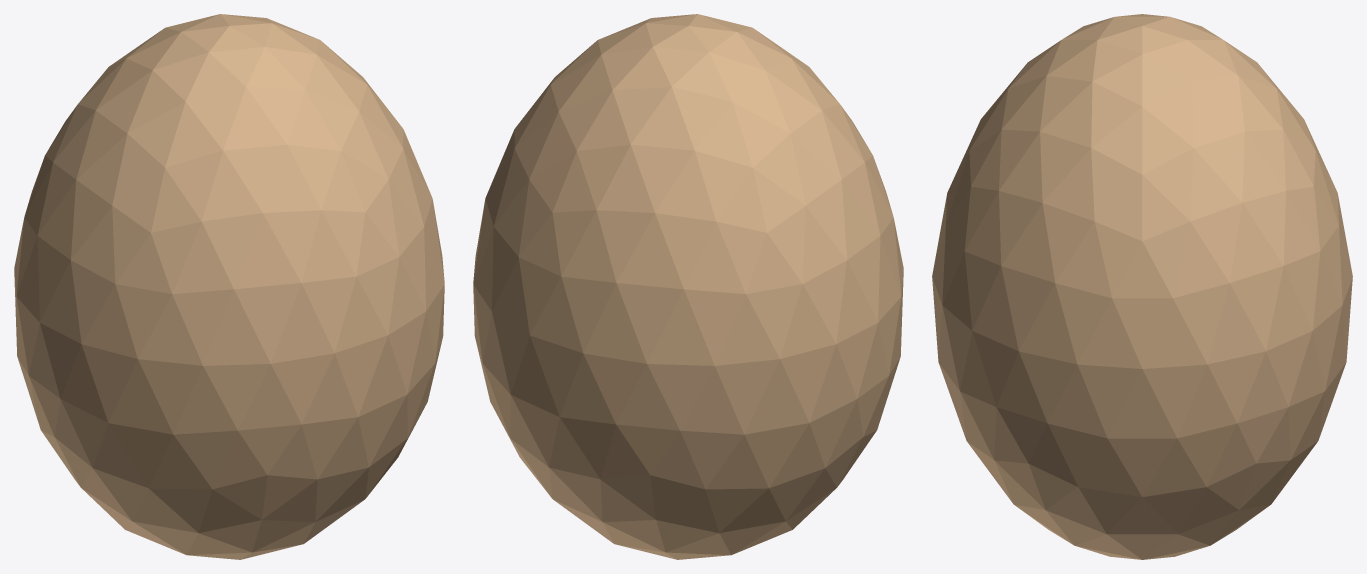
The model's file is egg.glb.
3 views of the same model, side by side, from view 1: azimuth 30°, elevation 25°; view 2: azimuth 150°, elevation 25°; view 3: azimuth 270°, elevation 25° (orthographic).
Visible parts, largest first — view 1: egg_shell; view 2: egg_shell; view 3: egg_shell.
Boxes of the visible parts, <box> form: egg_shell: <box>14,14,444,559</box>; egg_shell: <box>473,14,903,559</box>; egg_shell: <box>932,14,1352,559</box>.
Size of the model in its own units: 0.252 by 0.33 by 0.242.
